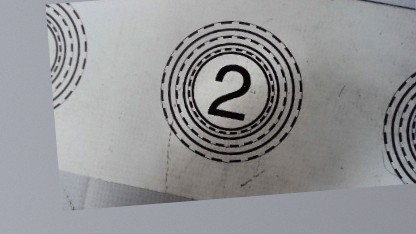2r: (153, 14, 309, 170)
